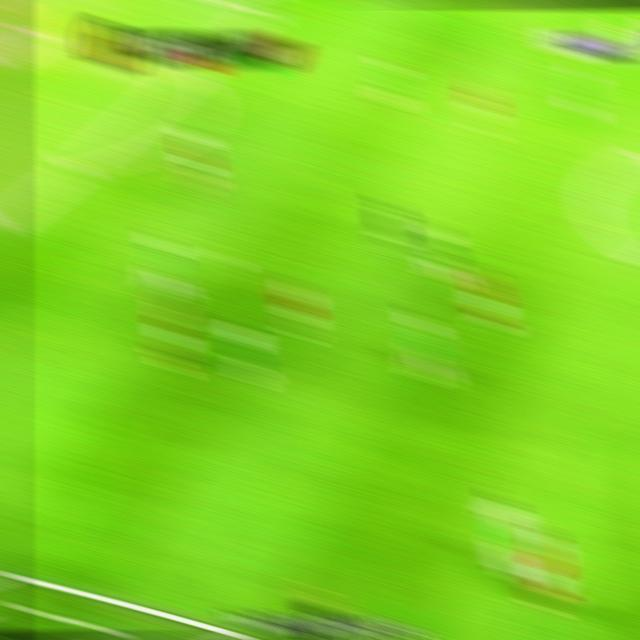bigarea_top_inner: (245, 0, 277, 21)
bottom_arc_area_intersection: (60, 150, 95, 178)
smallarea_top_inner: (31, 23, 65, 47)
top_arc_area_intersection: (174, 58, 208, 82)
